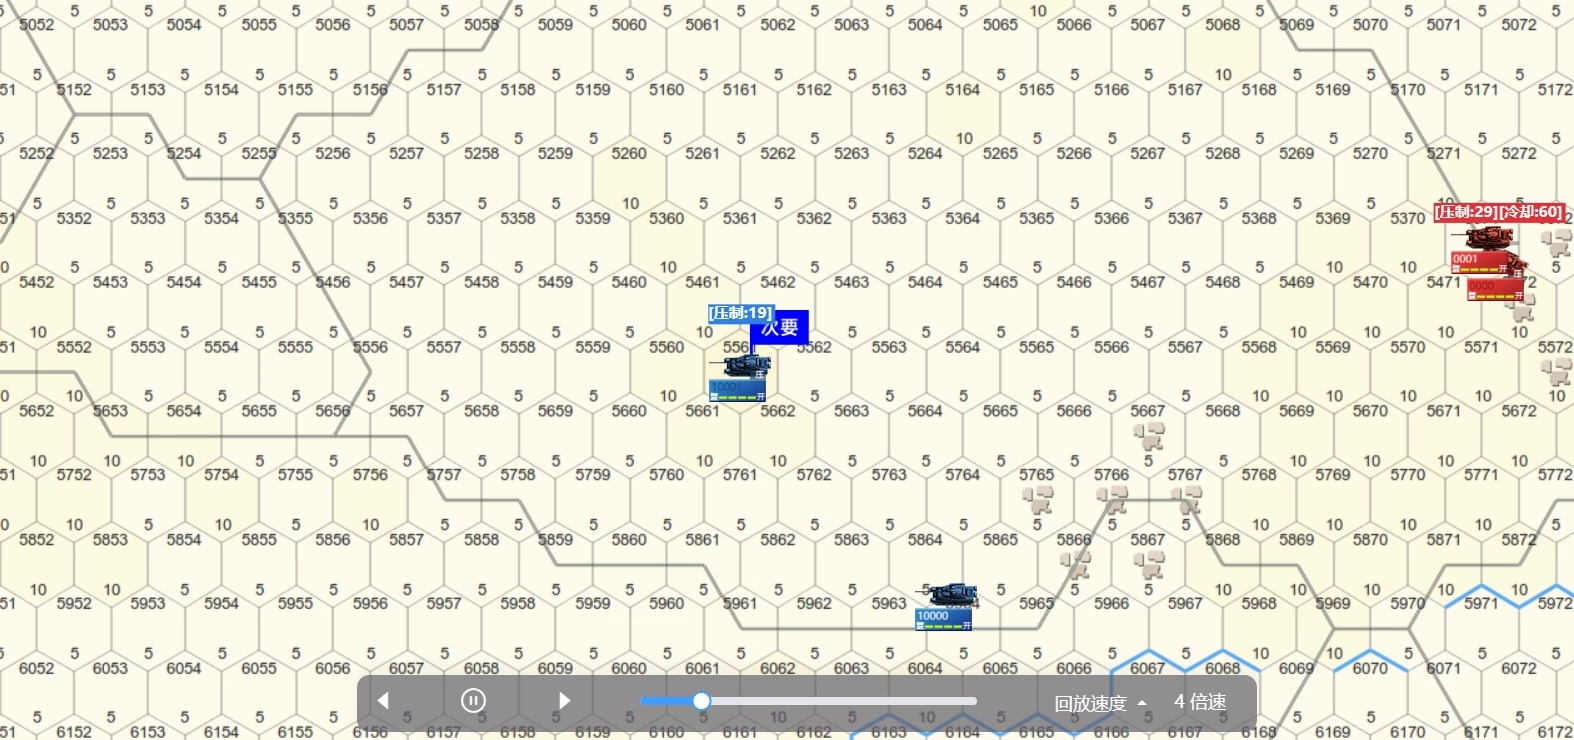blue_tank: (707, 355, 774, 399), (915, 586, 979, 626)
red_tank: (1469, 259, 1525, 297), (1457, 233, 1511, 271)
